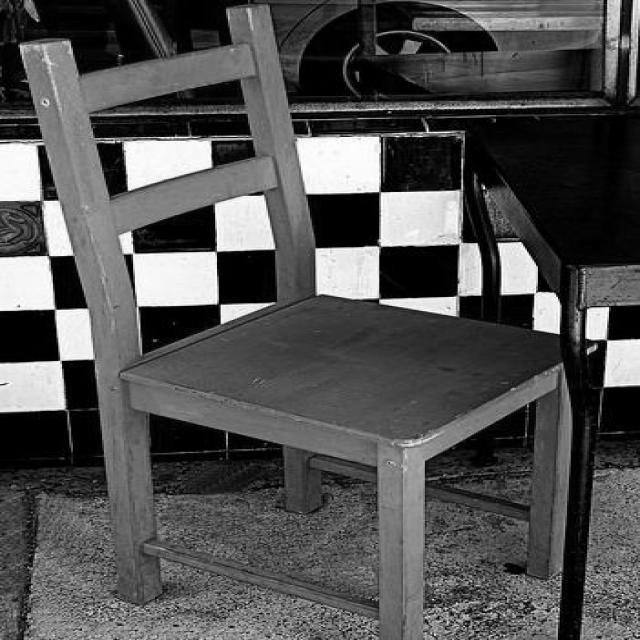chair: (20, 7, 580, 636)
